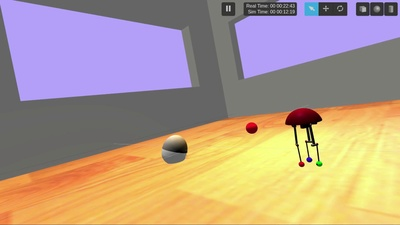mira_robot: (162, 135, 188, 164)
